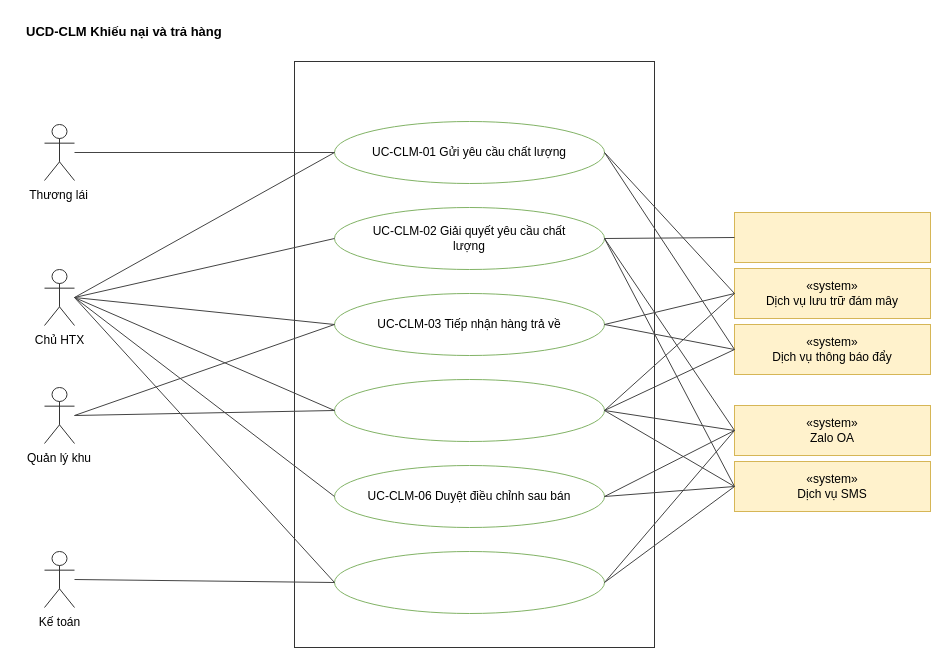
The diagram is 948 pixels wide and 665 high, and some of its shapes have lost their labels. The box of each missing label's shape, as (x1, y1, x2, y2) in pixels:
OMTS: (294, 60, 654, 648)
UC-CLM-04 Đánh giá hàng trả về: (334, 378, 604, 442)
UC-CLM-05 Lập điều chỉnh sau bán: (334, 550, 604, 614)
«system» Dịch vụ email: (734, 212, 930, 262)
